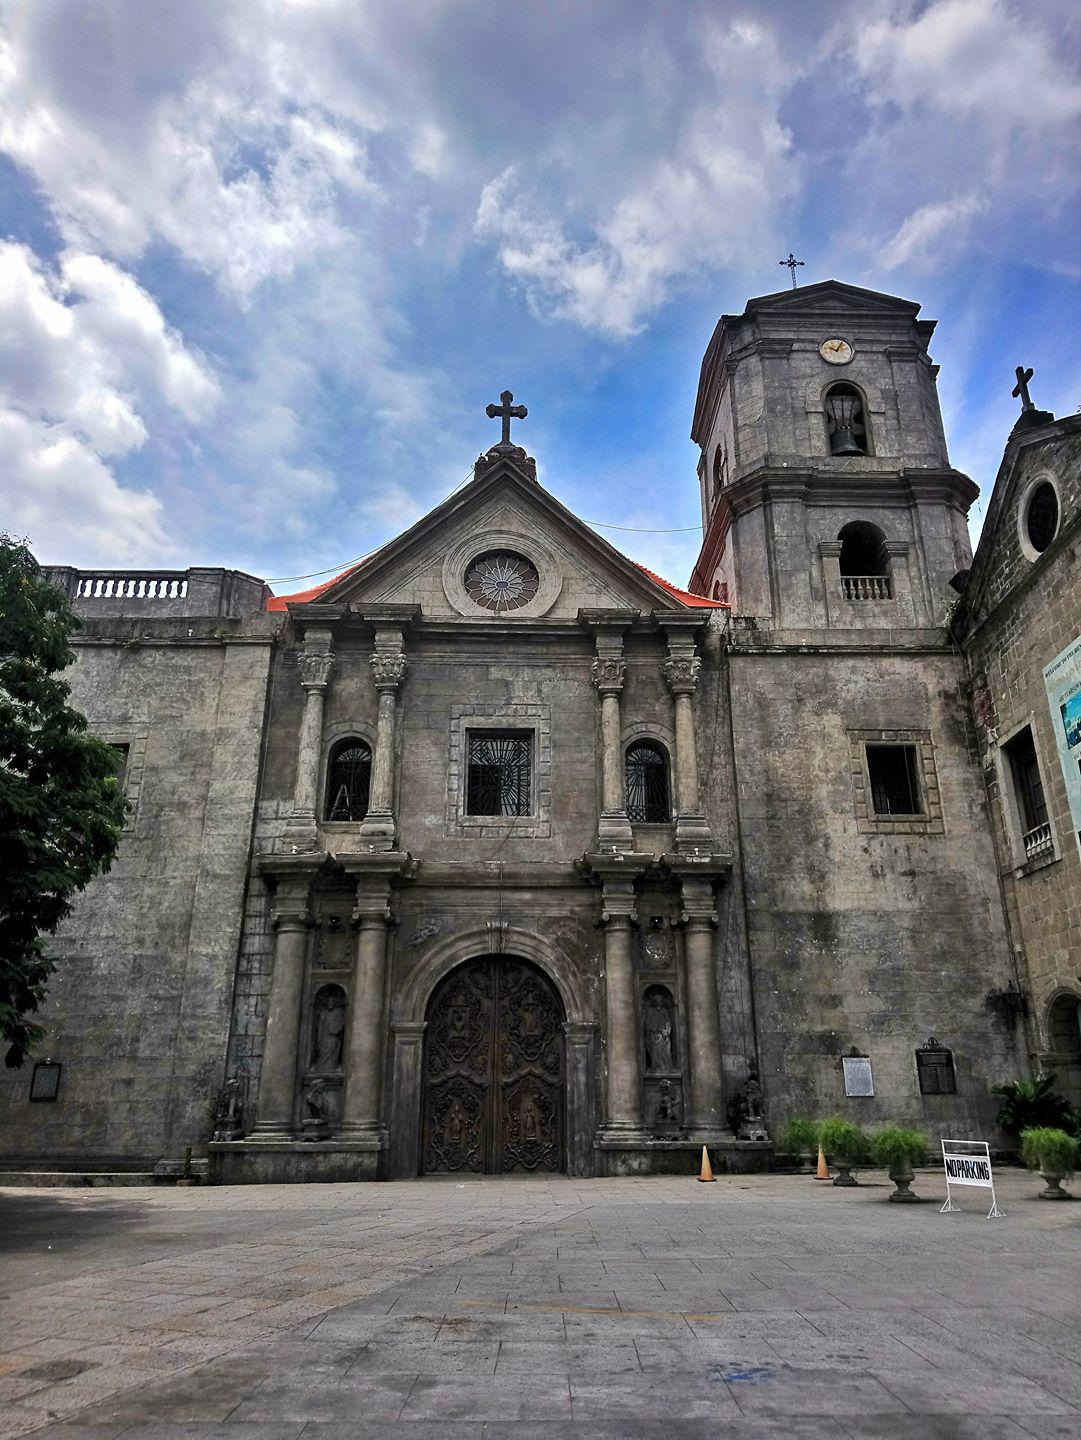Environmental Damage: (936, 677, 979, 760)
San Agustin Church: (213, 196, 1046, 1184)
